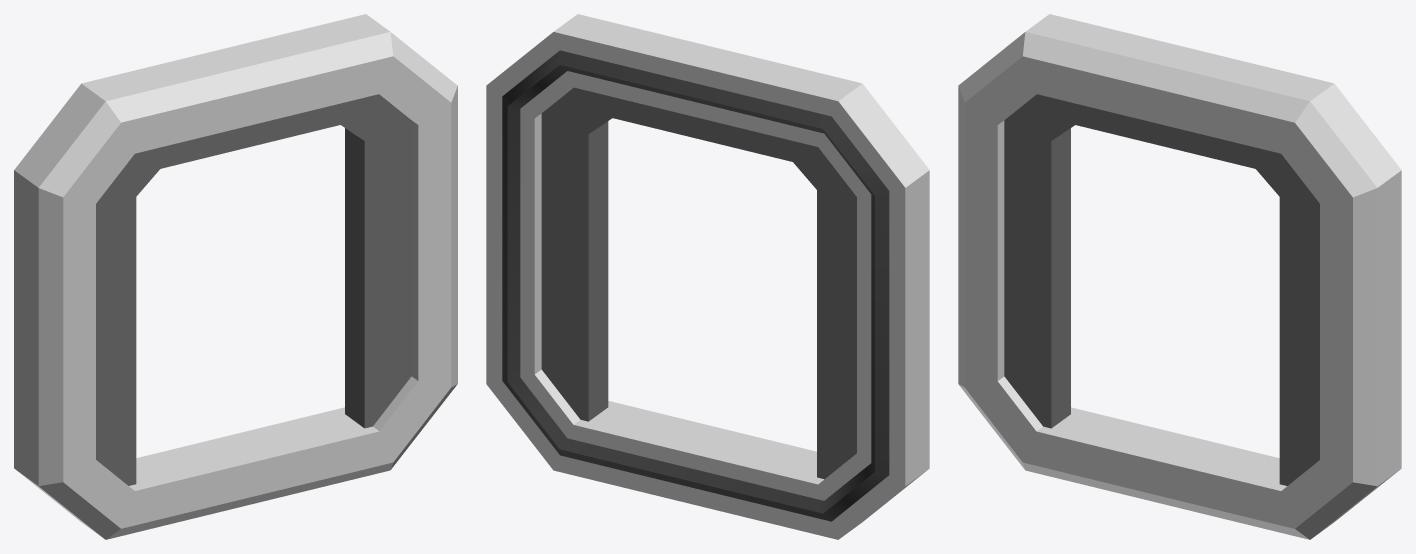
File: door_003.fbx
3 views of the same model, side by side, from view 1: azimuth 30°, elevation 25°; view 2: azimuth 150°, elevation 25°; view 3: azimuth 330°, elevation 25° (orthographic).
Parts seen in each view (by area): view 1: door_003; view 2: door_003; view 3: door_003.
Boxes of the visible parts, x1,y1,x2,y2 form: door_003: (14, 14, 457, 539); door_003: (486, 14, 929, 539); door_003: (958, 14, 1401, 539).
Bounding box in the file's own units: 320 × 50.05 × 320.
